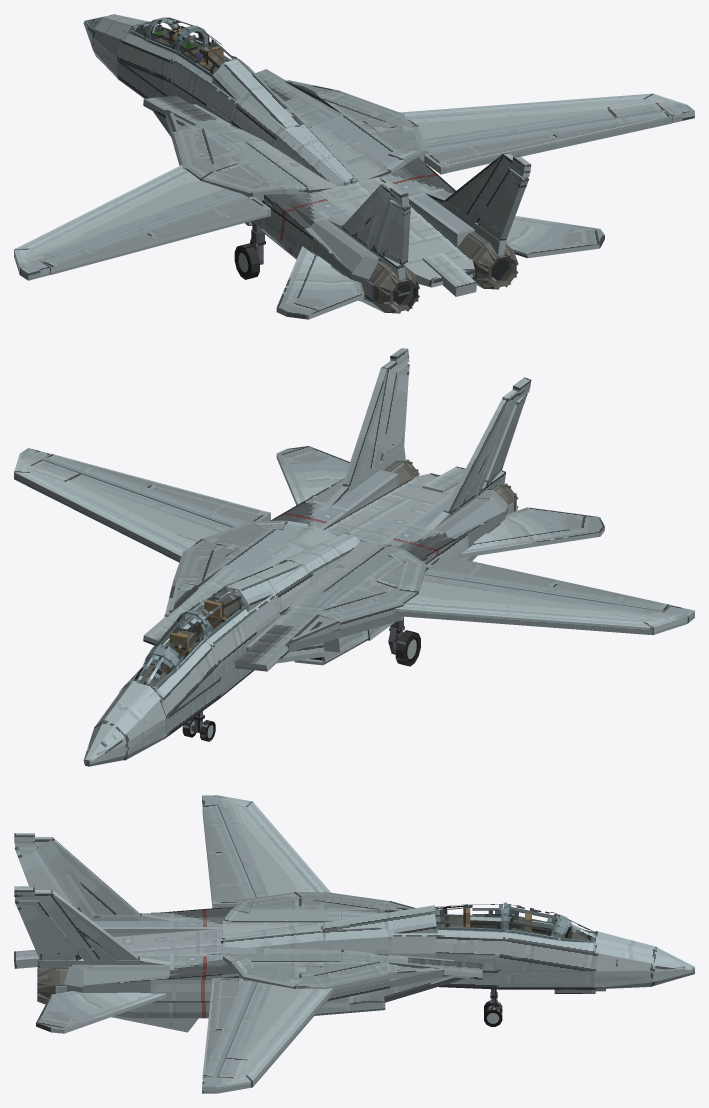
The picture shows the model from 3 angles, top to bottom: view 1: azimuth 30°, elevation 25°; view 2: azimuth 150°, elevation 25°; view 3: azimuth 270°, elevation 25°; orthographic projection. The views are drawn at different scales.
Parts seen in each view (by area): view 1: cube (×62); view 2: cube (×45); view 3: cube (×62).
Boxes of the visible parts, box(x1,y1,x2,y2) form: cube (×62): box(14, 31, 671, 319); cube (×45): box(14, 368, 671, 735); cube (×62): box(18, 802, 653, 1093).
Bounding box in the file's own units: 21.01 × 5.4 × 20.69.
Materials: 1 (1 with a texture image).
